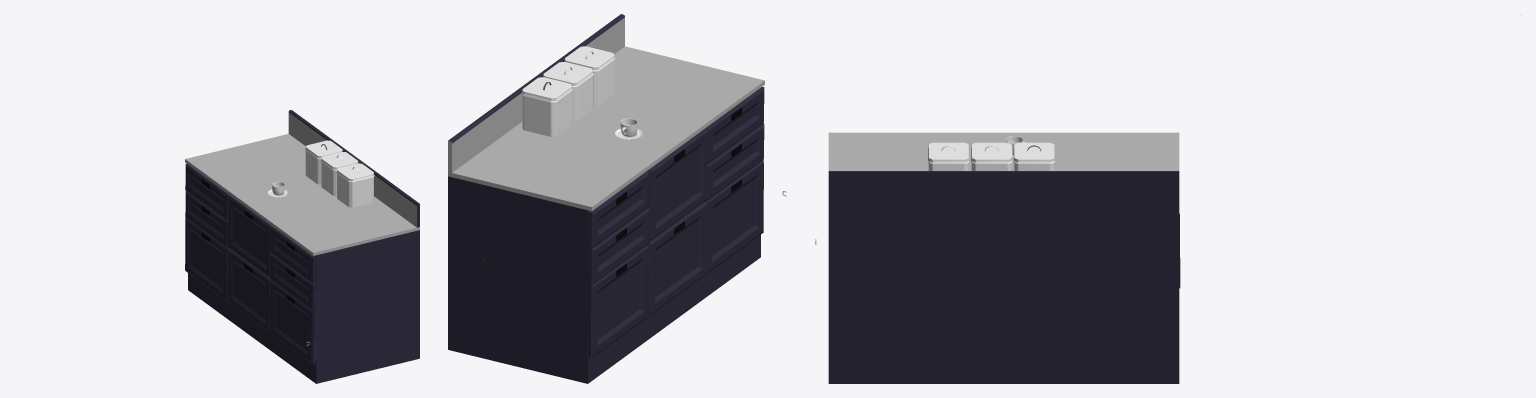
Rendered from LeftCounter.fbx.
3 renders of one model, left to right at view 1: azimuth 30°, elevation 25°; view 2: azimuth 150°, elevation 25°; view 3: azimuth 270°, elevation 25°, orthographic. The views are drawn at different scales.
Parts seen in each view (by area): view 1: Box050, Object031, Object021, Object024, Object027, Object025, Box014.001, Object022, Object023, Object028, Object029, Box003.001 (+1 smaller); view 2: Box050, Object031, Object027, Object024, Object025, Object021, Box003.001, Object028, Object029, Object022, Object023, Box014.001 (+2 smaller); view 3: Box050, Object031, Box003.001, Box014.001, Box013.001.
Part boxes in pixels (box(x1,y1,x2,y2)): Box050: box(188, 110, 419, 383); Object031: box(185, 112, 419, 255); Object021: box(270, 280, 315, 364); Object024: box(228, 248, 270, 333); Object027: box(185, 217, 228, 301); Object025: box(228, 195, 271, 278); Box014.001: box(336, 163, 374, 207); Object022: box(270, 226, 316, 283); Object023: box(270, 253, 316, 310); Object028: box(185, 163, 229, 221); Object029: box(185, 191, 228, 248); Box003.001: box(305, 140, 342, 184); Box050: box(448, 14, 760, 383); Object031: box(448, 17, 764, 211); Object027: box(587, 244, 648, 358); Object024: box(648, 201, 706, 315); Object025: box(647, 129, 707, 241); Object021: box(705, 160, 763, 273); Box003.001: box(521, 77, 572, 136); Object028: box(588, 171, 649, 249); Object029: box(588, 207, 649, 285); Object022: box(705, 86, 764, 164); Object023: box(706, 123, 764, 201); Box014.001: box(564, 46, 615, 105); Box050: box(828, 171, 1179, 383); Object031: box(828, 132, 1179, 170); Box003.001: box(1013, 142, 1054, 170); Box014.001: box(928, 142, 969, 170); Box013.001: box(971, 142, 1012, 170).
Size of the model in its own units: 103 by 127 by 302.
